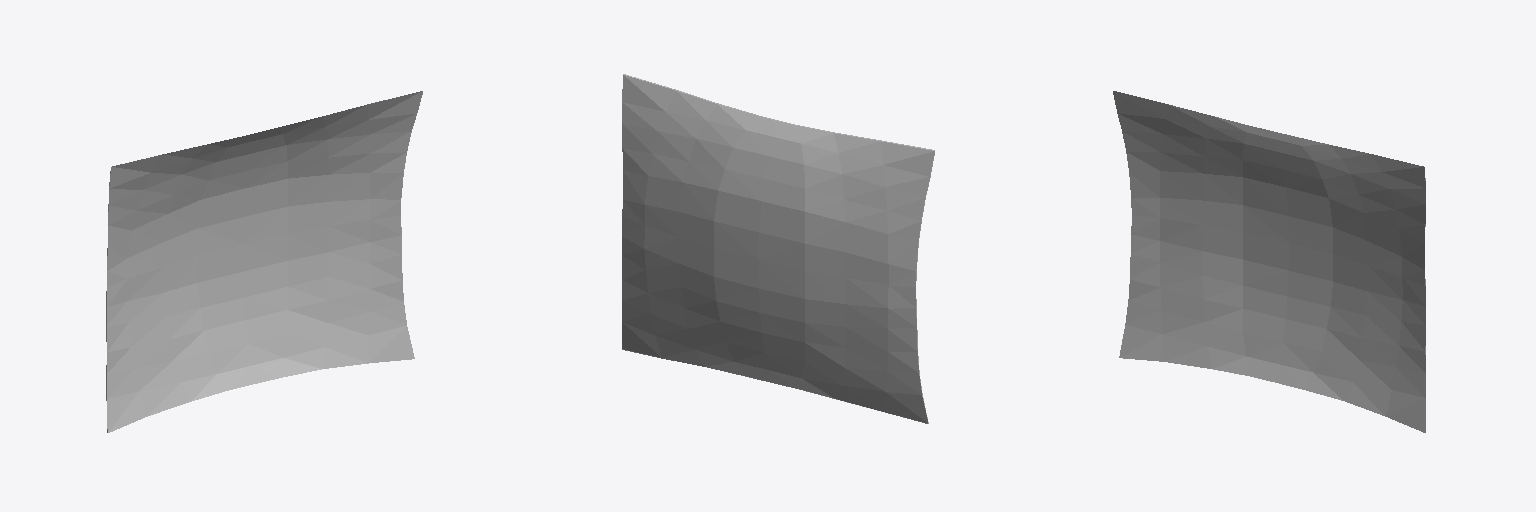
The model's file is sail.obj.
3 views of the same model, side by side, from view 1: azimuth 30°, elevation 25°; view 2: azimuth 150°, elevation 25°; view 3: azimuth 330°, elevation 25° (orthographic).
Visible parts, largest first — view 1: obj.sail.000_Plane; view 2: obj.sail.000_Plane; view 3: obj.sail.000_Plane.
Part boxes in pixels (x1,y1,x2,y2): obj.sail.000_Plane: (106,91,422,432); obj.sail.000_Plane: (622,74,934,423); obj.sail.000_Plane: (1113,91,1425,432).
Bounding box in the file's own units: 6.56 × 5.44 × 0.8339.